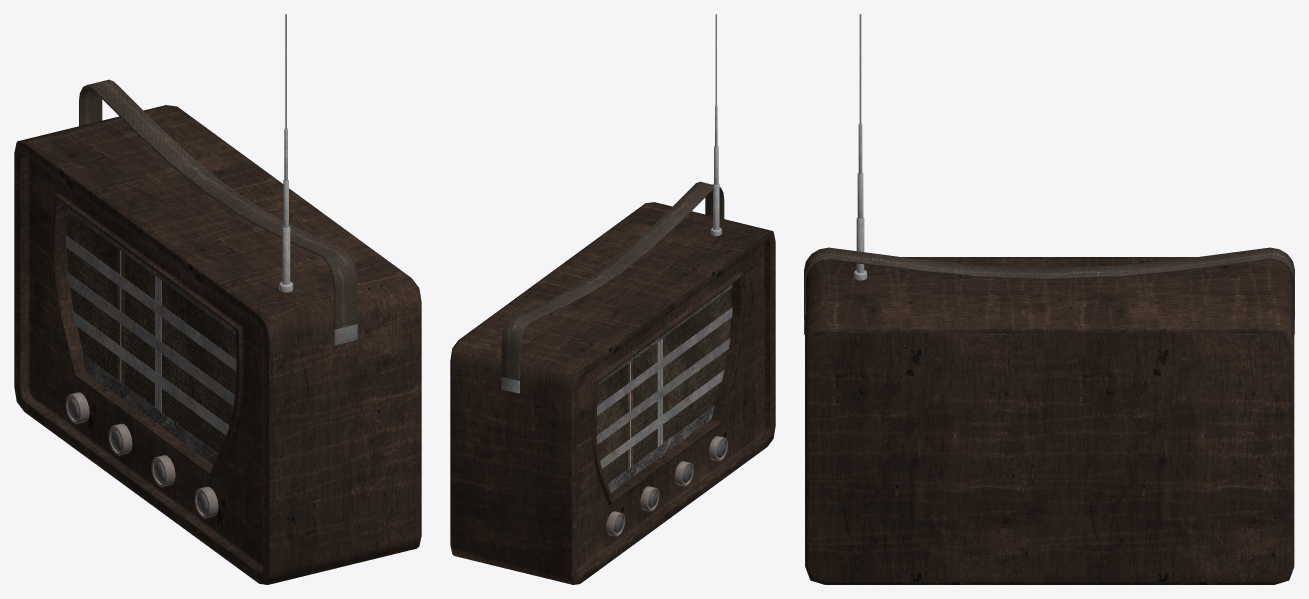
The model's file is Radio.FBX.
The picture shows the model from 3 angles, left to right: view 1: azimuth 30°, elevation 25°; view 2: azimuth 150°, elevation 25°; view 3: azimuth 270°, elevation 25°; orthographic projection. The views are drawn at different scales.
Visible parts, largest first — view 1: Radio; view 2: Radio; view 3: Radio.
Part boxes in pixels (box(x1,y1,x2,y2)): Radio: box(14, 14, 421, 584); Radio: box(450, 14, 775, 584); Radio: box(804, 14, 1294, 584).
Bounding box in the file's own units: 683 × 2295 × 1957.
